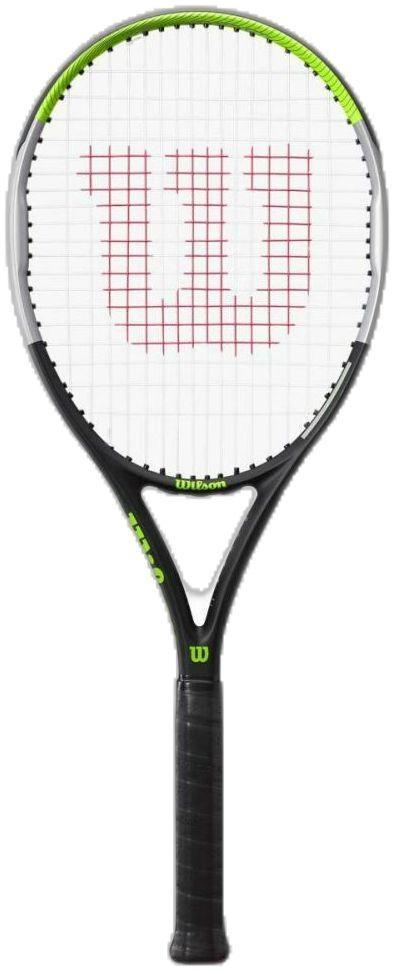Tennis-Racket: (2, 13, 393, 952)
